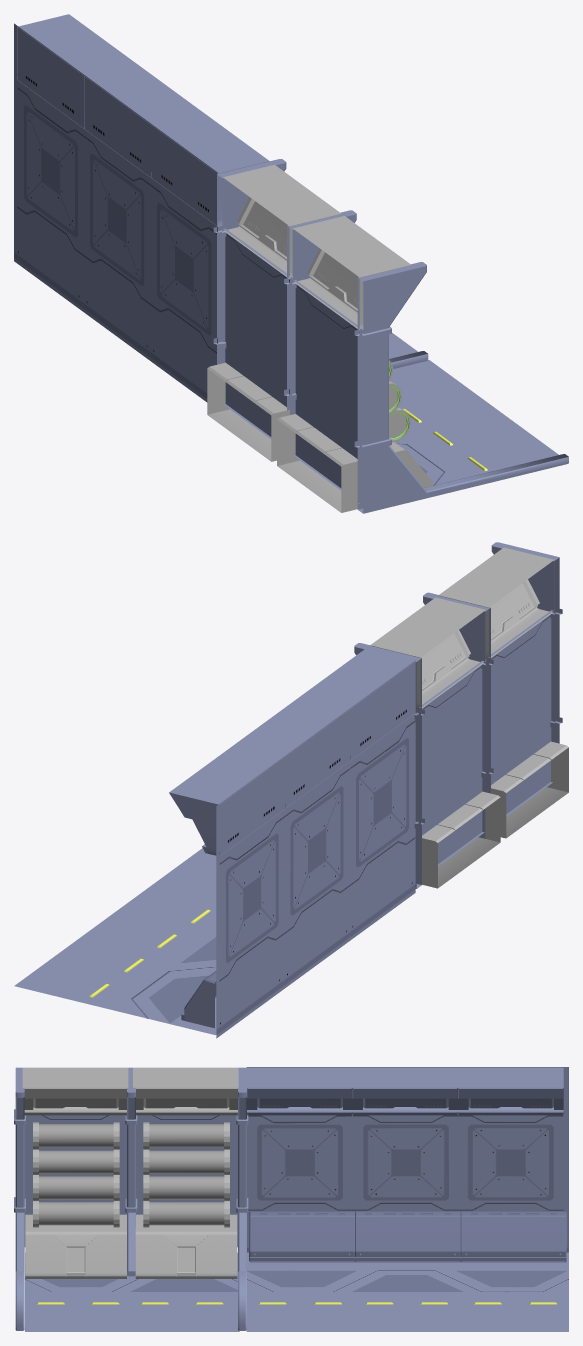
File: corridor.fbx
3 renders of one model, top to bottom at view 1: azimuth 30°, elevation 25°; view 2: azimuth 150°, elevation 25°; view 3: azimuth 270°, elevation 25°, orthographic. The views are drawn at different scales.
Visible parts, largest first — view 1: pPlane5, polySurface2842, polySurface2846, polySurface2829 (×3), blendingtub, polySurface1481, centerbase1:wallll:polySurface1481, centerbase1:wallll:polySurface1, centerbase1:wallll:polySurface1588, polySurface1588, polySurface1636; view 2: pPlane5, pPlane4, polySurface2842, polySurface2829 (×3), centerbase1:wallll:polySurface1481, polySurface1481, centerbase1:wallll:polySurface1, polySurface2846, polySurface1588, centerbase1:wallll:polySurface1588, polySurface2841; view 3: pPlane5, pPlane4, polySurface2829 (×3), centerbase1:wallll:polySurface1403, centerbase1:wallll:polySurface1, blendingtub, polySurface2842, polySurface2841, path, polySurface2840, polySurface1481, centerbase1:wallll:polySurface1481 (+5 smaller).
Part boxes in pixels (x1,y1,x2,y2): pPlane5: [14, 23, 217, 402]; polySurface2842: [223, 164, 410, 330]; polySurface2846: [354, 262, 568, 513]; polySurface2829 (×3): [17, 14, 269, 226]; blendingtub: [389, 360, 558, 485]; polySurface1481: [292, 280, 362, 504]; centerbase1:wallll:polySurface1481: [222, 228, 292, 438]; centerbase1:wallll:polySurface1: [207, 362, 433, 512]; centerbase1:wallll:polySurface1588: [213, 159, 428, 368]; polySurface1588: [284, 210, 356, 414]; polySurface1636: [389, 360, 411, 442]; pPlane5: [216, 660, 415, 1038]; pPlane4: [14, 848, 216, 1034]; polySurface2842: [370, 547, 554, 708]; polySurface2829 (×3): [169, 649, 415, 855]; centerbase1:wallll:polySurface1481: [418, 659, 486, 878]; polySurface1481: [487, 609, 555, 816]; centerbase1:wallll:polySurface1: [422, 741, 568, 888]; polySurface2846: [491, 542, 562, 743]; polySurface1588: [423, 592, 493, 838]; centerbase1:wallll:polySurface1588: [354, 643, 424, 888]; polySurface2841: [184, 971, 216, 1028]; pPlane5: [246, 1067, 568, 1252]; pPlane4: [246, 1252, 568, 1331]; polySurface2829 (×3): [246, 1067, 563, 1115]; centerbase1:wallll:polySurface1403: [39, 1124, 224, 1225]; centerbase1:wallll:polySurface1: [25, 1214, 237, 1278]; blendingtub: [25, 1252, 247, 1331]; polySurface2842: [22, 1067, 238, 1115]; polySurface2841: [460, 1211, 566, 1260]; path: [249, 1211, 354, 1260]; polySurface2840: [355, 1211, 460, 1256]; polySurface1481: [24, 1115, 126, 1246]; centerbase1:wallll:polySurface1481: [136, 1115, 237, 1247].
Size of the model in its own units: 75.31 by 76.54 by 205.
